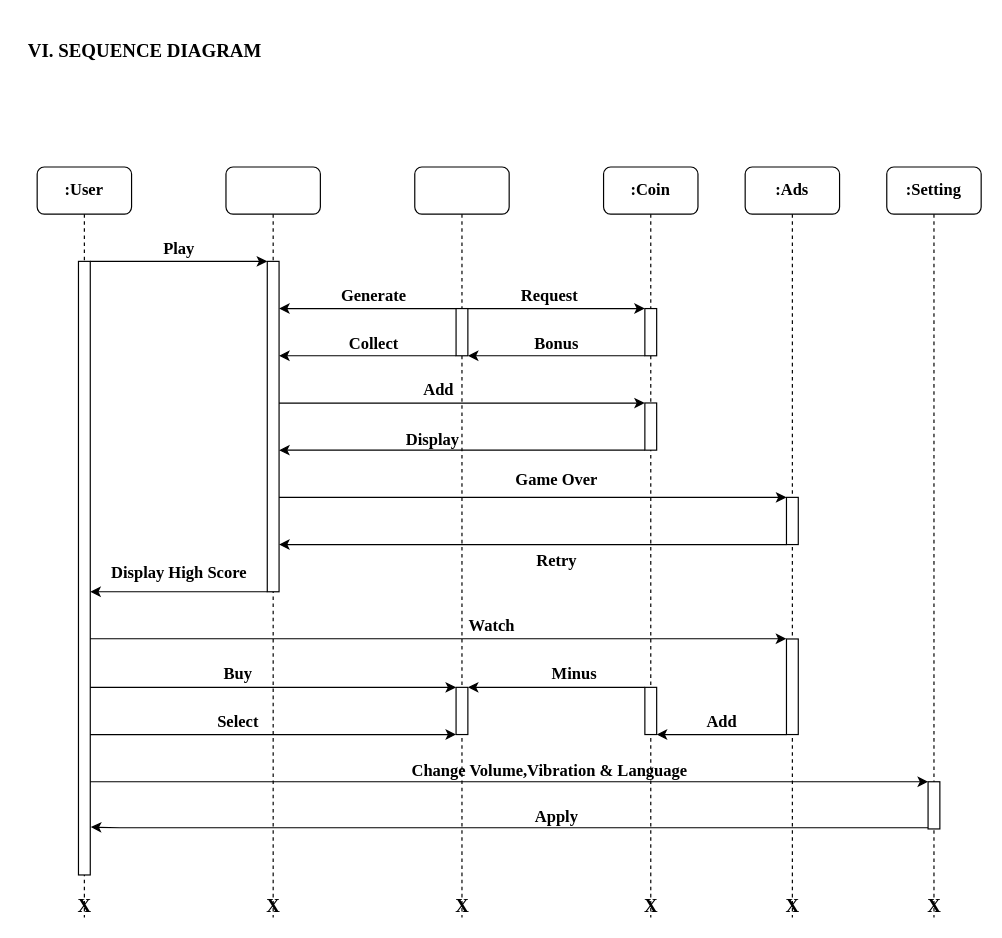
Image size: 1002x938. Some labels were removed from this diagram. The shapes that lost their labels are listed below. From the top down, each one's box as (x1, y1, x2, y2) in pixels, then its label:
(225, 166, 320, 917): :Xishi(Girl)
(414, 166, 509, 917): :Pizza
